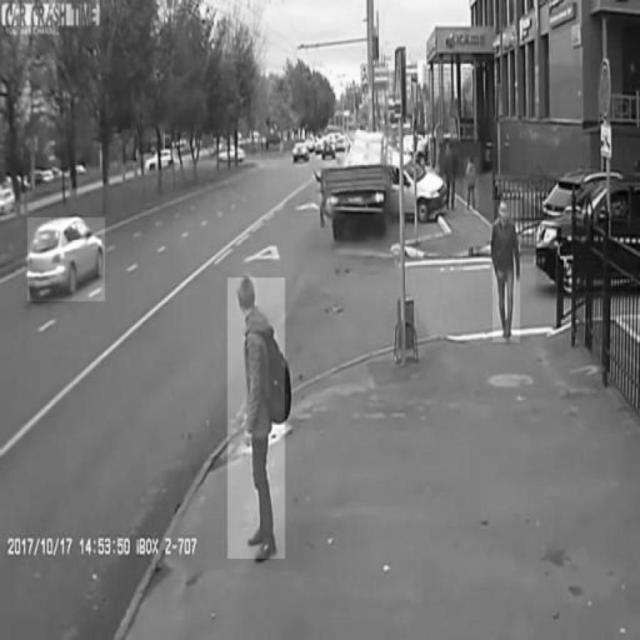accident: (317, 140, 445, 246)
person: (227, 278, 285, 559), (493, 200, 520, 342), (464, 158, 479, 214)
vehicle: (537, 175, 640, 293), (27, 218, 105, 301)
